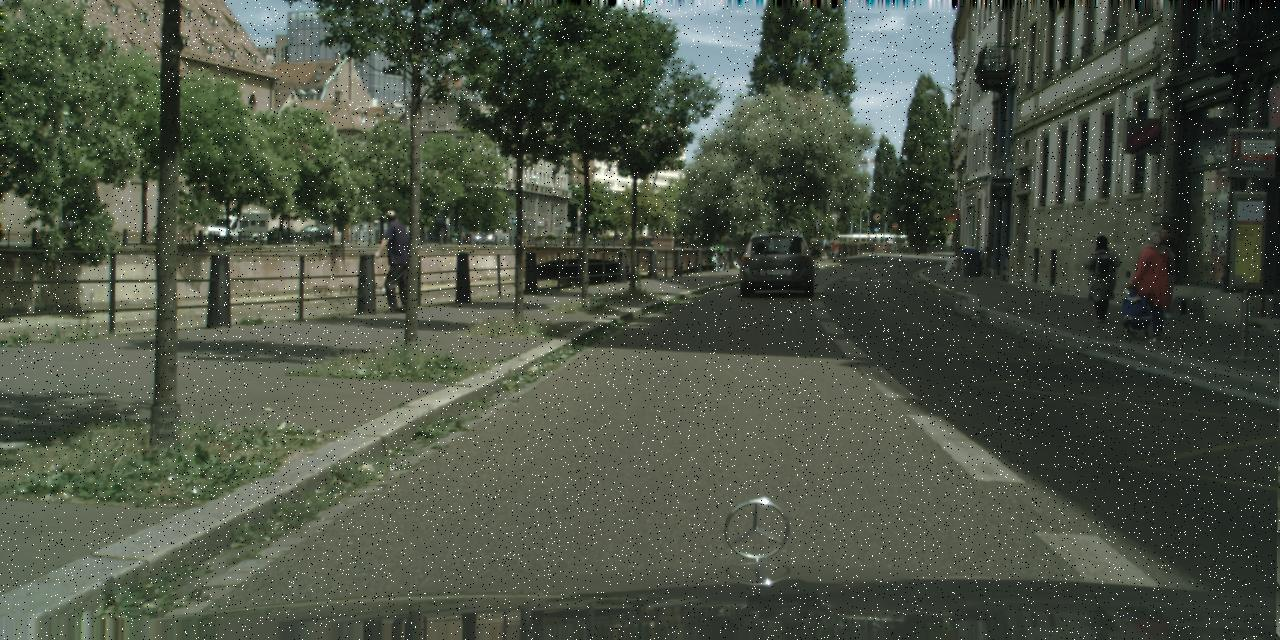ped: (1133, 231, 1178, 340), (374, 210, 416, 312), (1145, 227, 1181, 317), (1084, 235, 1118, 322), (819, 236, 829, 260), (829, 237, 838, 261)
